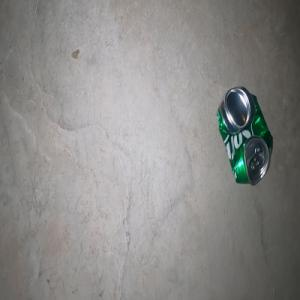SodaCan: (216, 87, 273, 186)
